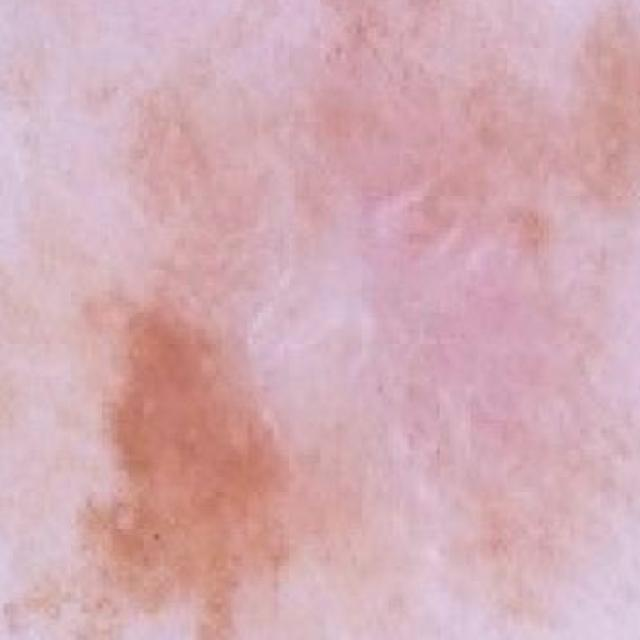DF: (49, 0, 606, 640)
